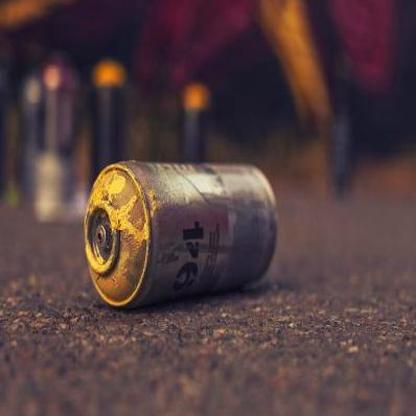can: (83, 160, 278, 306)
